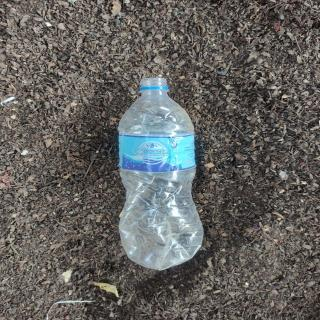Plastic-bottle: (115, 76, 210, 275)
